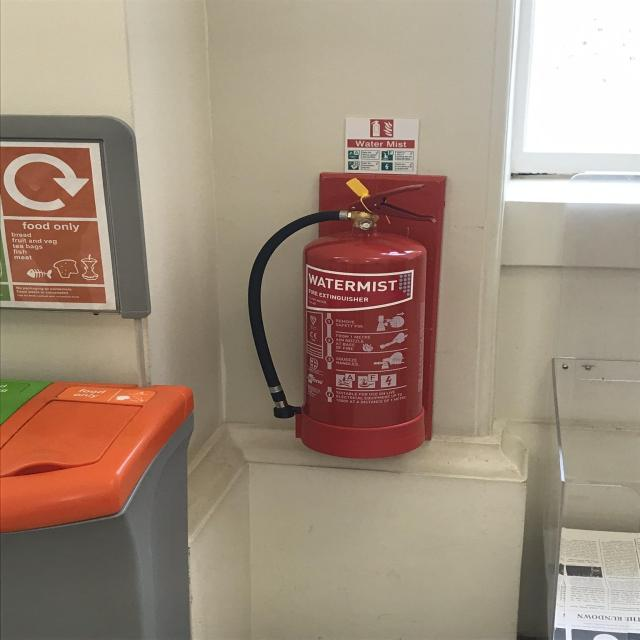fire_extinguisher: (244, 181, 441, 460)
